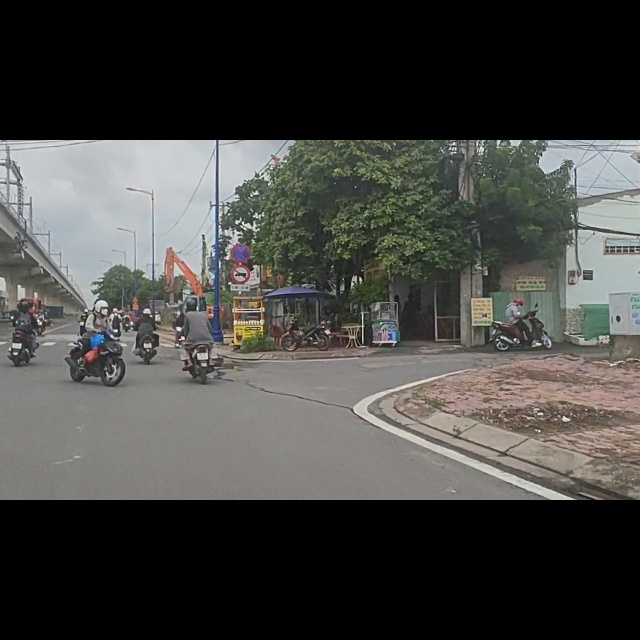bien_nguy_hiem: (231, 184, 253, 217), (231, 223, 252, 255)
